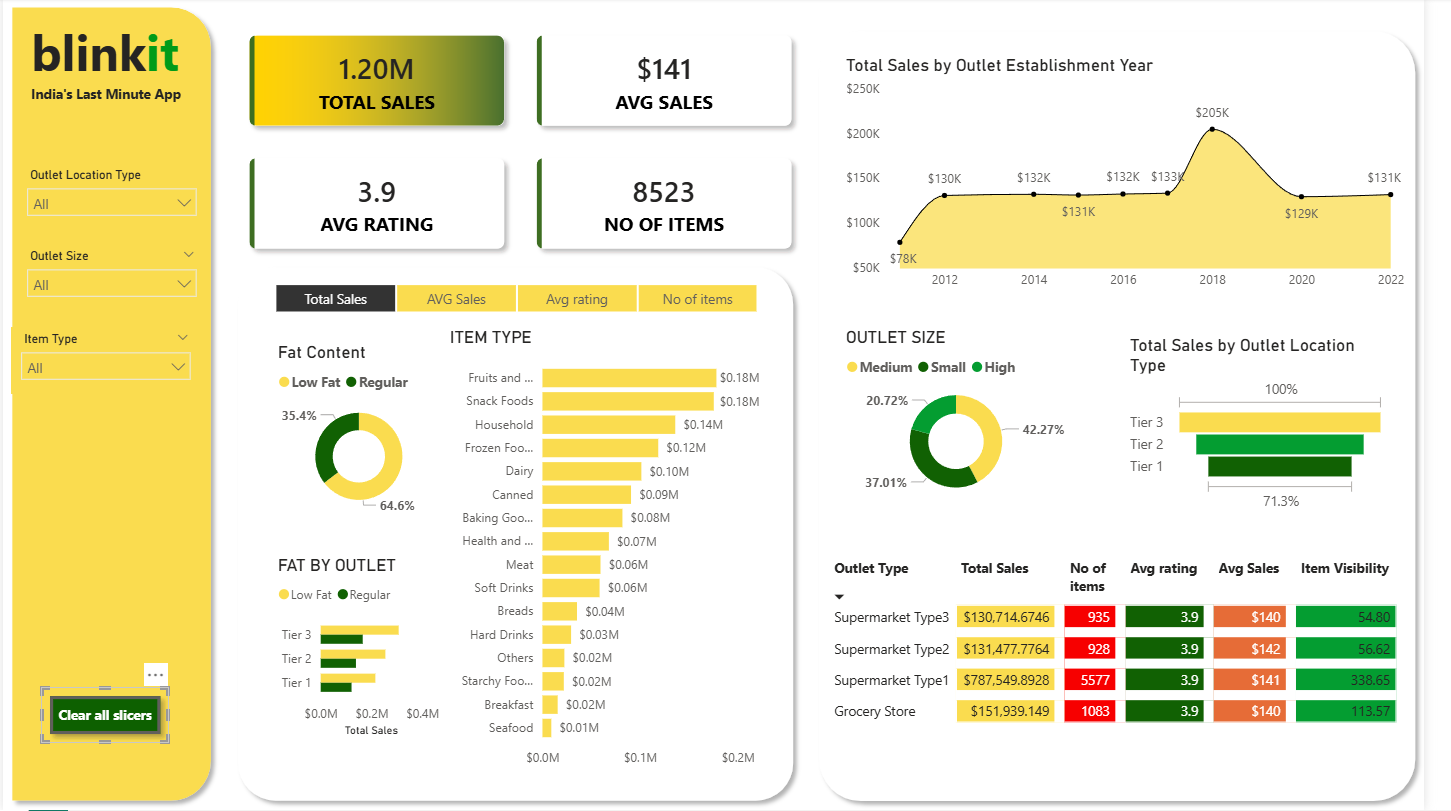

The page's visual inventory and layout, read from the dashboard file:
{"tool":"powerbi","page":{"name":"Page 1","canvas":[1400,800],"ordinal":0},"visuals":[{"type":"shape","box":[0,0,213.8,800],"z":0},{"type":"textbox","box":[0,14.9,201.1,96.8],"z":1000},{"type":"textbox","box":[22.3,80.9,200,42.6],"z":2000},{"type":"cardVisual","fields":{"Data":["BlinkIT Grocery Data.Total Sales","BlinkIT Grocery Data.AVG Sales","BlinkIT Grocery Data.Avg rating","BlinkIT Grocery Data.No of items"]},"box":[213.8,7.4,593.6,268.1],"z":3000},{"type":"shape","box":[222.3,256.4,564.9,543.6],"z":4000},{"type":"slicer","fields":{"Values":["Metrics.Metrics"]},"box":[243.6,275.5,523.4,40.4],"z":5000},{"type":"donutChart","title":" Fat Content","fields":{"Y":["BlinkIT Grocery Data.Total Sales"],"Category":["BlinkIT Grocery Data.Item Fat Content"]},"box":[266,339.4,169.1,177.7],"z":6000},{"type":"clusteredBarChart","title":"FAT BY OUTLET","fields":{"Y":["BlinkIT Grocery Data.Total Sales"],"Category":["BlinkIT Grocery Data.Outlet Location Type"],"Series":["BlinkIT Grocery Data.Item Fat Content"]},"box":[266,544.7,169.1,187.2],"z":7000},{"type":"barChart","title":"      ITEM TYPE","fields":{"Y":["BlinkIT Grocery Data.Total Sales"],"Category":["BlinkIT Grocery Data.Item Type"]},"box":[435.1,324.5,331.9,442.6],"z":8000},{"type":"shape","box":[794.7,23.4,605.3,776.6],"z":9000},{"type":"lineChart","fields":{"Category":["BlinkIT Grocery Data.Outlet Establishment Year"],"Y":["BlinkIT Grocery Data.Total Sales"]},"box":[825.5,56.4,559.6,239.4],"z":10000},{"type":"donutChart","title":"OUTLET SIZE","fields":{"Y":["BlinkIT Grocery Data.Total Sales"],"Category":["BlinkIT Grocery Data.Outlet Size"]},"box":[825.5,324.5,226.6,177.7],"z":11000},{"type":"funnel","fields":{"Y":["BlinkIT Grocery Data.Total Sales"],"Category":["BlinkIT Grocery Data.Outlet Location Type"]},"box":[1105.3,331.9,261.7,177.7],"z":12000},{"type":"pivotTable","fields":{"Rows":["BlinkIT Grocery Data.Outlet Type"],"Values":["BlinkIT Grocery Data.Total Sales","BlinkIT Grocery Data.No of items","BlinkIT Grocery Data.Avg rating","BlinkIT Grocery Data.AVG Sales","Sum(BlinkIT Grocery Data.Item Visibility)"]},"box":[807.4,544.7,577.7,189],"z":13000},{"type":"slicer","fields":{"Values":["BlinkIT Grocery Data.Outlet Location Type"]},"box":[13.8,162.8,187.2,66],"z":14000},{"type":"slicer","fields":{"Values":["BlinkIT Grocery Data.Outlet Size"]},"box":[13.8,242.6,187.2,66],"z":15000},{"type":"slicer","fields":{"Values":["BlinkIT Grocery Data.Item Type"]},"box":[7.4,324.5,187.2,66],"z":16000},{"type":"actionButton","box":[37.2,678.7,126.6,55.3],"z":17000}]}

Visuals, with their boxes in screenshot pixels (x1, y1, x2, y2), scaled from the page's 1400x800 canvas onto the 1451x811 screenshot:
shape: [x1=0, y1=0, x2=222, y2=810]
textbox: [x1=0, y1=15, x2=208, y2=113]
textbox: [x1=23, y1=82, x2=230, y2=125]
cardVisual - BlinkIT Grocery Data.Total Sales x BlinkIT Grocery Data.AVG Sales: [x1=222, y1=8, x2=837, y2=279]
shape: [x1=230, y1=260, x2=816, y2=810]
slicer - Metrics.Metrics: [x1=252, y1=279, x2=795, y2=320]
" Fat Content" donutChart: [x1=276, y1=344, x2=451, y2=524]
"FAT BY OUTLET" clusteredBarChart: [x1=276, y1=552, x2=451, y2=742]
"      ITEM TYPE" barChart: [x1=451, y1=329, x2=795, y2=778]
shape: [x1=824, y1=24, x2=1450, y2=810]
lineChart - BlinkIT Grocery Data.Outlet Establishment Year x BlinkIT Grocery Data.Total Sales: [x1=856, y1=57, x2=1436, y2=300]
"OUTLET SIZE" donutChart: [x1=856, y1=329, x2=1090, y2=509]
funnel - BlinkIT Grocery Data.Total Sales x BlinkIT Grocery Data.Outlet Location Type: [x1=1146, y1=336, x2=1417, y2=517]
pivotTable - BlinkIT Grocery Data.Outlet Type x BlinkIT Grocery Data.Total Sales: [x1=837, y1=552, x2=1436, y2=744]
slicer - BlinkIT Grocery Data.Outlet Location Type: [x1=14, y1=165, x2=208, y2=232]
slicer - BlinkIT Grocery Data.Outlet Size: [x1=14, y1=246, x2=208, y2=313]
slicer - BlinkIT Grocery Data.Item Type: [x1=8, y1=329, x2=202, y2=396]
actionButton: [x1=39, y1=688, x2=170, y2=744]
